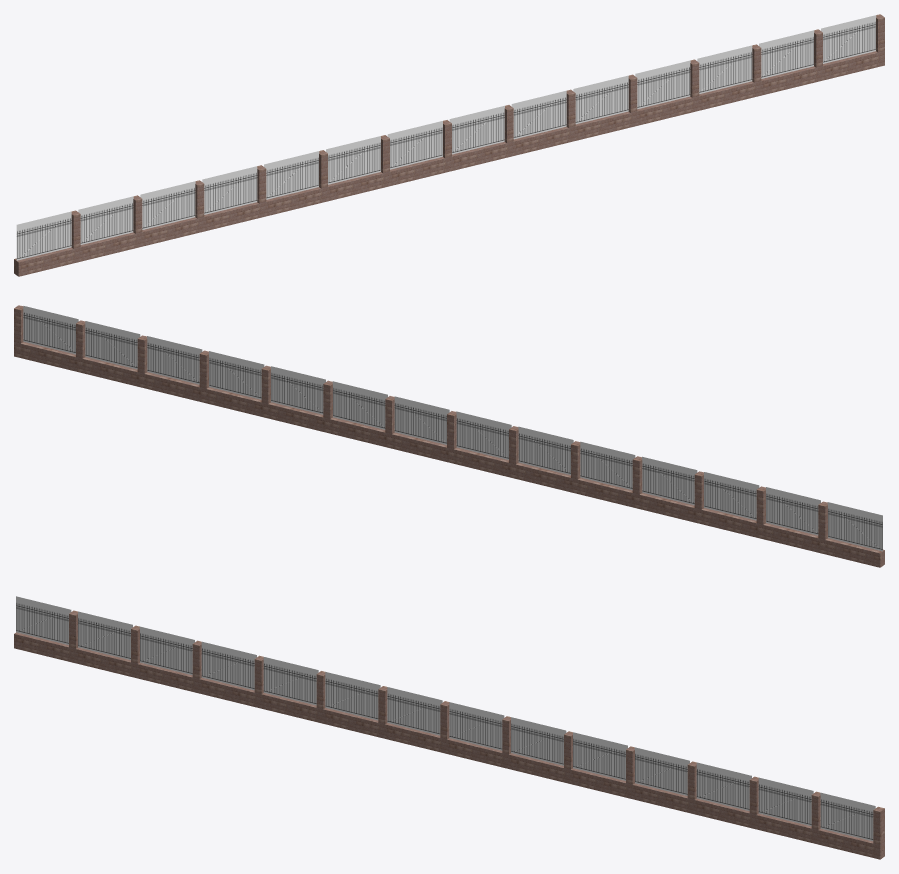
File: walls.fbx
3 renders of one model, top to bottom at view 1: azimuth 30°, elevation 25°; view 2: azimuth 150°, elevation 25°; view 3: azimuth 330°, elevation 25°, orthographic.
Parts seen in each view (by area): view 1: Wall, Fence, Fence_10, Fence_2, Fence_4, Fence_12, Fence_11, Fence_3, Fence_9, Fence_14, Fence_8, Fence_5 (+3 smaller); view 2: Wall, Fence, Fence_8, Fence_4, Fence_6, Fence_12, Fence_14, Fence_7, Fence_11, Fence_13, Fence_3, Fence_5 (+3 smaller); view 3: Wall, Fence_14, Fence_4, Fence_6, Fence_12, Fence_8, Fence_5, Fence_13, Fence_7, Fence_2, Fence_10, Fence_11 (+3 smaller).
Boxes of the visible parts, <box> form: Wall: <box>14,14,884,276</box>; Fence: <box>16,211,71,260</box>; Fence_10: <box>573,75,628,124</box>; Fence_2: <box>78,196,133,244</box>; Fence_4: <box>202,166,257,214</box>; Fence_12: <box>697,45,752,93</box>; Fence_11: <box>635,60,690,109</box>; Fence_3: <box>140,181,195,229</box>; Fence_9: <box>511,90,566,139</box>; Fence_14: <box>821,15,876,63</box>; Fence_8: <box>449,105,504,154</box>; Fence_5: <box>264,151,319,199</box>; Wall: <box>14,305,884,567</box>; Fence: <box>827,502,882,551</box>; Fence_8: <box>394,396,449,444</box>; Fence_4: <box>642,456,697,505</box>; Fence_6: <box>518,426,573,475</box>; Fence_12: <box>147,336,202,384</box>; Fence_14: <box>23,306,78,354</box>; Fence_7: <box>456,411,511,459</box>; Fence_11: <box>209,351,264,399</box>; Fence_13: <box>85,321,140,369</box>; Fence_3: <box>704,472,759,520</box>; Fence_5: <box>580,441,635,490</box>; Wall: <box>14,610,884,859</box>; Fence_14: <box>820,792,875,841</box>; Fence_4: <box>201,641,256,690</box>; Fence_6: <box>325,672,380,720</box>; Fence_12: <box>696,762,751,810</box>; Fence_8: <box>449,702,504,750</box>; Fence_5: <box>263,657,318,705</box>; Fence_13: <box>758,777,813,826</box>; Fence_7: <box>387,687,442,735</box>; Fence_2: <box>78,611,132,660</box>; Fence_10: <box>573,732,627,780</box>; Fence_11: <box>634,747,689,795</box>.
Size of the model in its own units: 6300 by 351 by 58.84.
28 materials, 28 textured.
